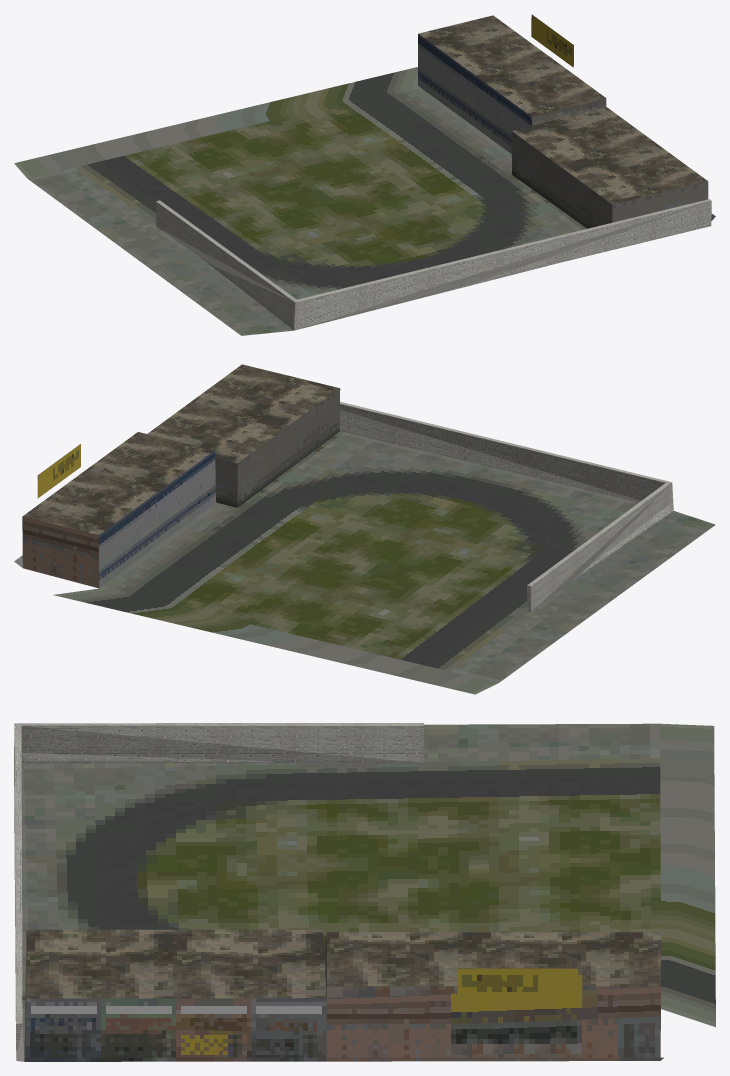
File: lodpltbild4_las2.obj
3 views of the same model, one above another, from view 1: azimuth 30°, elevation 25°; view 2: azimuth 150°, elevation 25°; view 3: azimuth 270°, elevation 25° (orthographic). The views are drawn at different scales.
Visible parts, largest first — view 1: LODpltbild4_las2; view 2: LODpltbild4_las2; view 3: LODpltbild4_las2.
Boxes of the visible parts, left/top/right/bottom form: LODpltbild4_las2: left=14, top=14, right=715, bottom=335; LODpltbild4_las2: left=14, top=364, right=715, bottom=694; LODpltbild4_las2: left=14, top=723, right=715, bottom=1061.
Size of the model in its own units: 48.16 by 6.82 by 41.53.
Materials: 5 (5 with a texture image).
